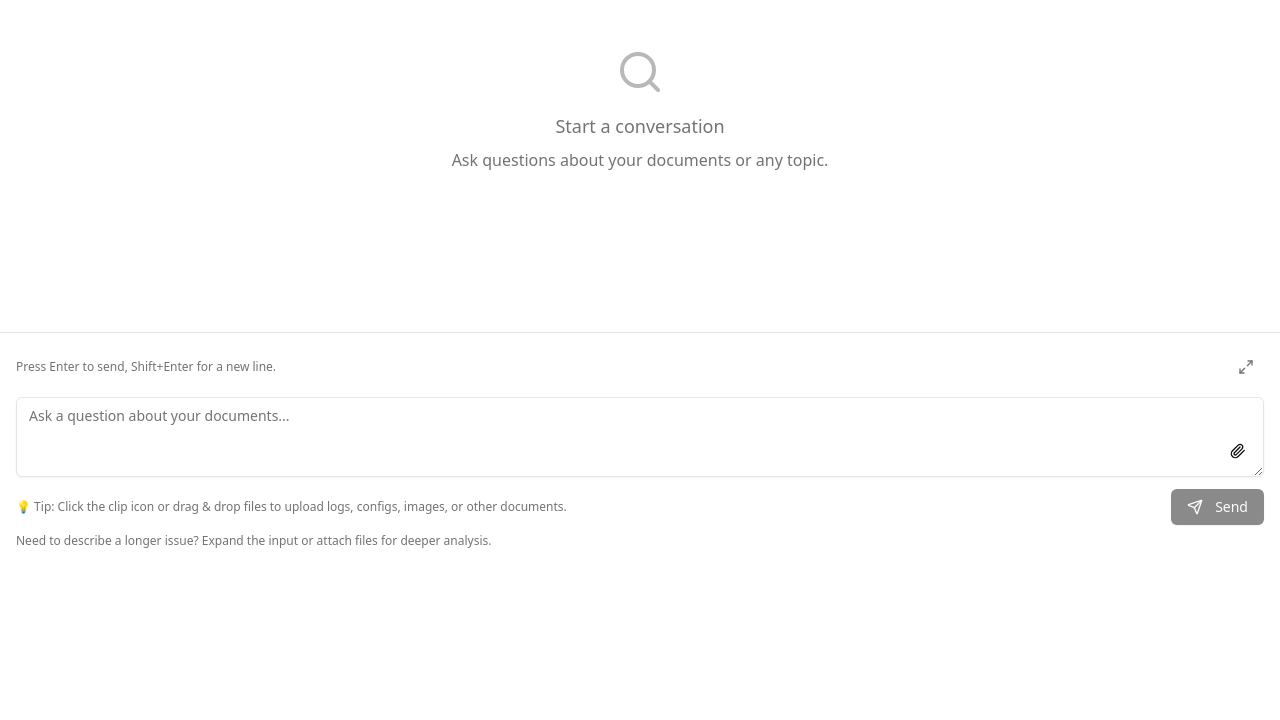
Test: ChatInterface copy response feature › shows error toast when copy fails
Type "Hello assistant" into the text box with placeholder "Ask a question about your documents...".
click(640, 437); type("Hello assistant")  # box [16,397,1264,477]
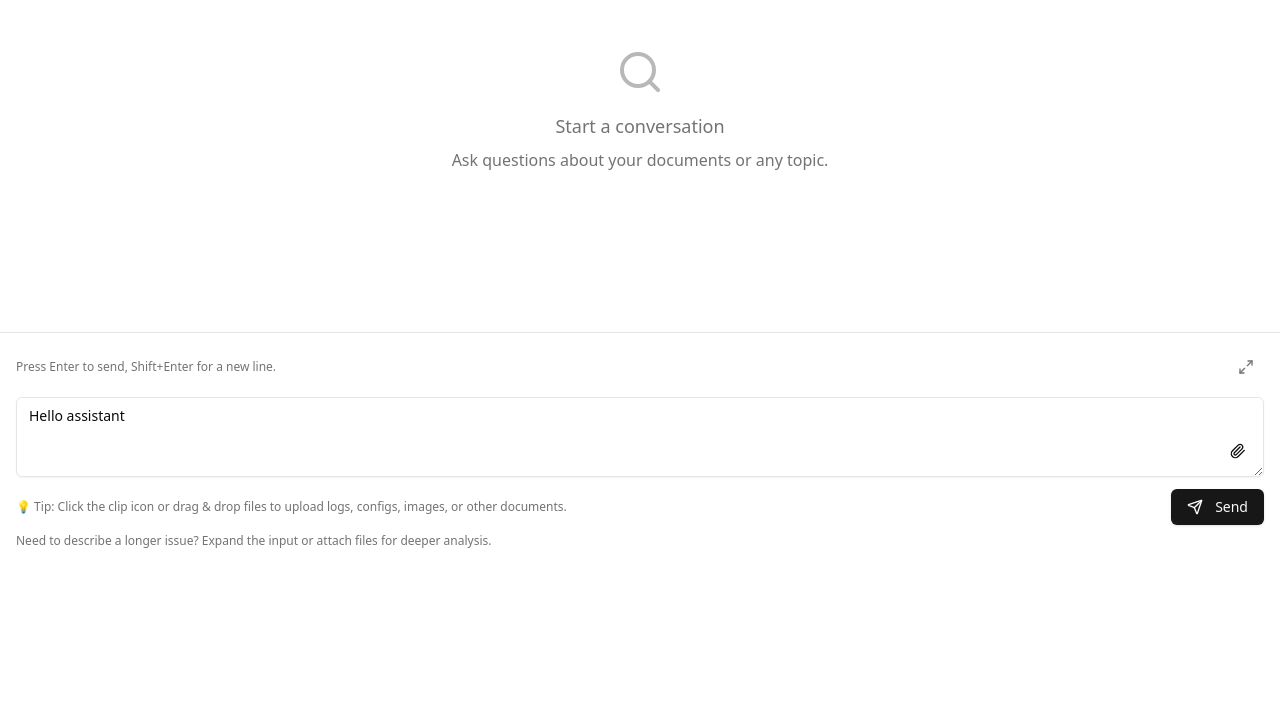
Press Enter in the text box with placeholder "Ask a question about your documents...", box [16,397,1264,477]
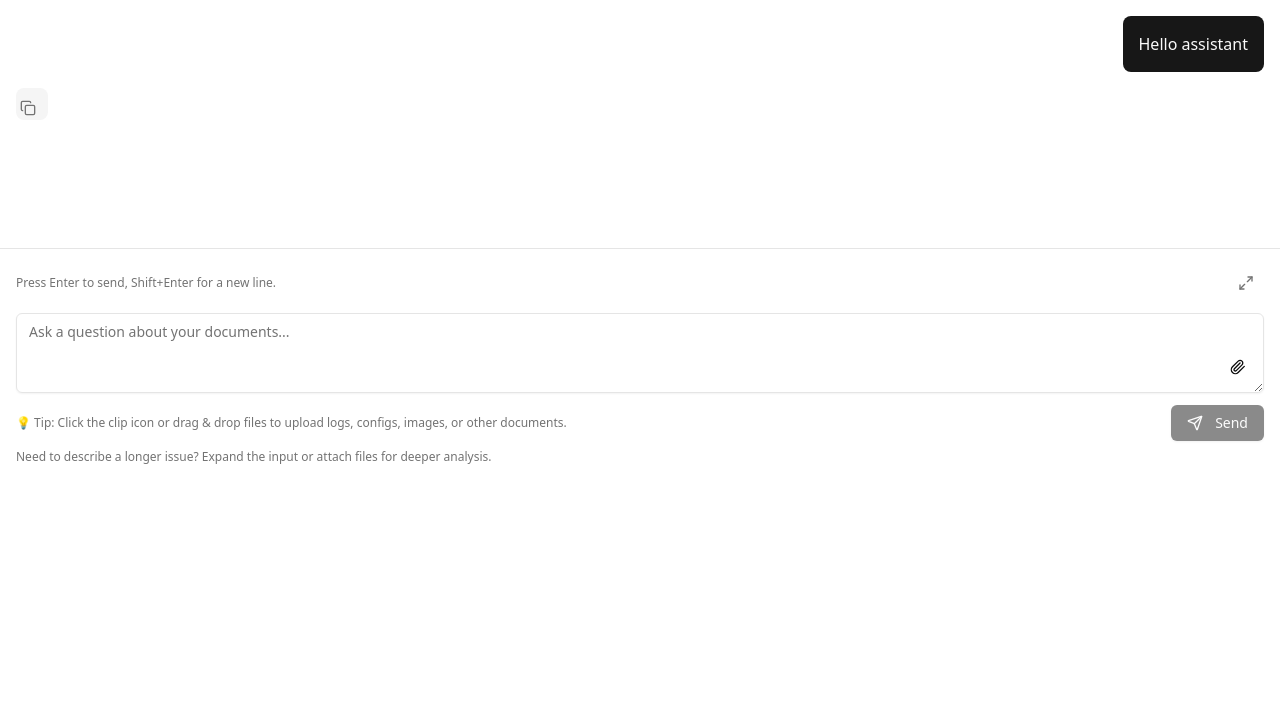
Click the button with test id "copy-btn".
click(28, 108)  # box [16,96,40,120]
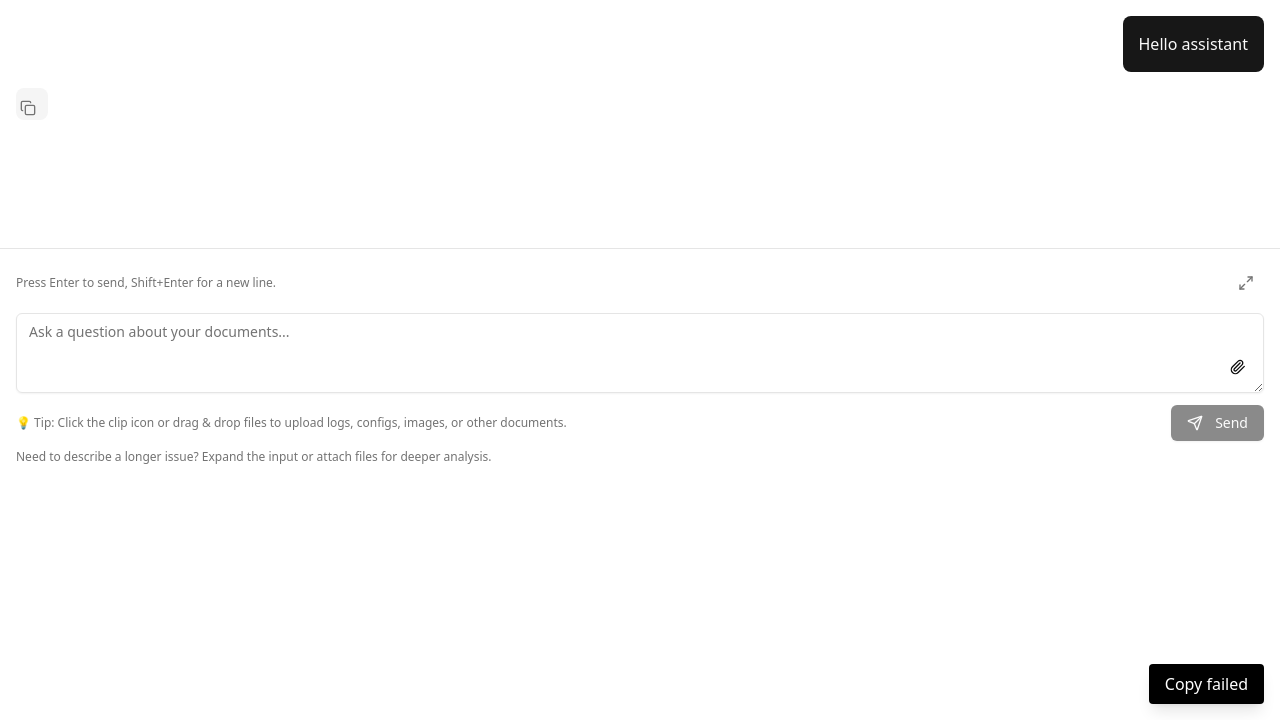
Expected: the text "Copy failed" is shown, [1165,672,1248,696]
